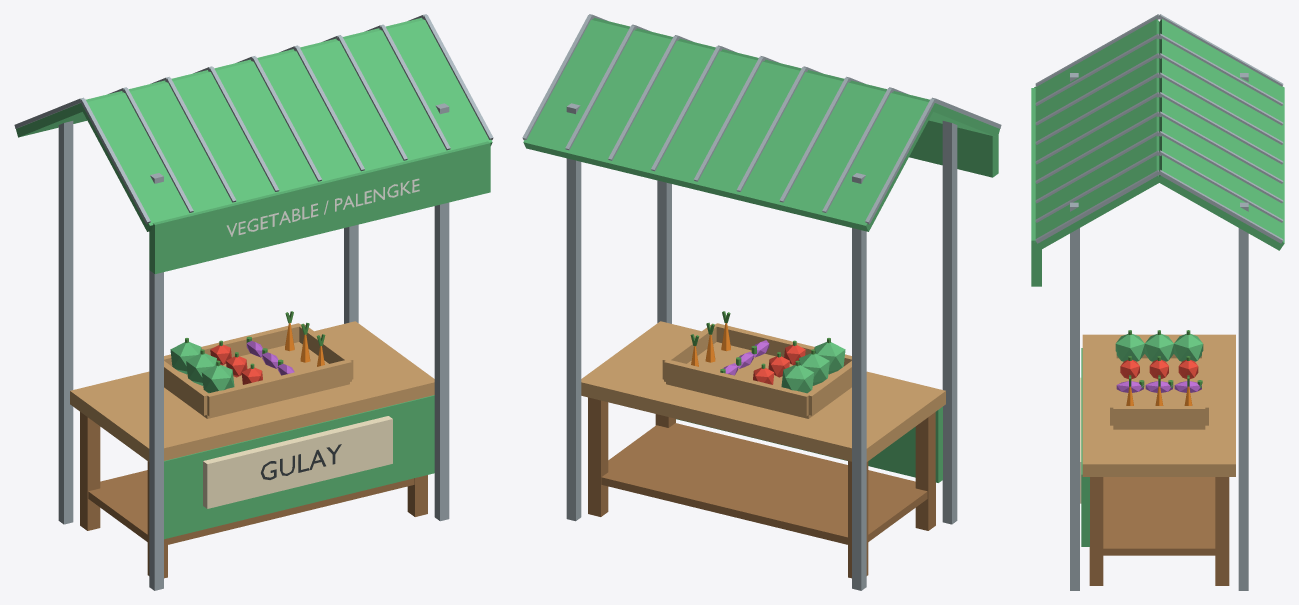
The model's file is TR_Stall_Vegetable.glb.
3 views of the same model, side by side, from view 1: azimuth 30°, elevation 25°; view 2: azimuth 150°, elevation 25°; view 3: azimuth 270°, elevation 25° (orthographic). The views are drawn at different scales.
Visible parts, largest first — view 1: TR_Stall_Vegetable; view 2: TR_Stall_Vegetable; view 3: TR_Stall_Vegetable.
Boxes of the visible parts, left/top/right/bottom form: TR_Stall_Vegetable: left=14, top=14, right=493, bottom=590; TR_Stall_Vegetable: left=522, top=14, right=1001, bottom=590; TR_Stall_Vegetable: left=1031, top=14, right=1284, bottom=590.
Bounding box in the file's own units: 2.43 × 3.1 × 1.66.
